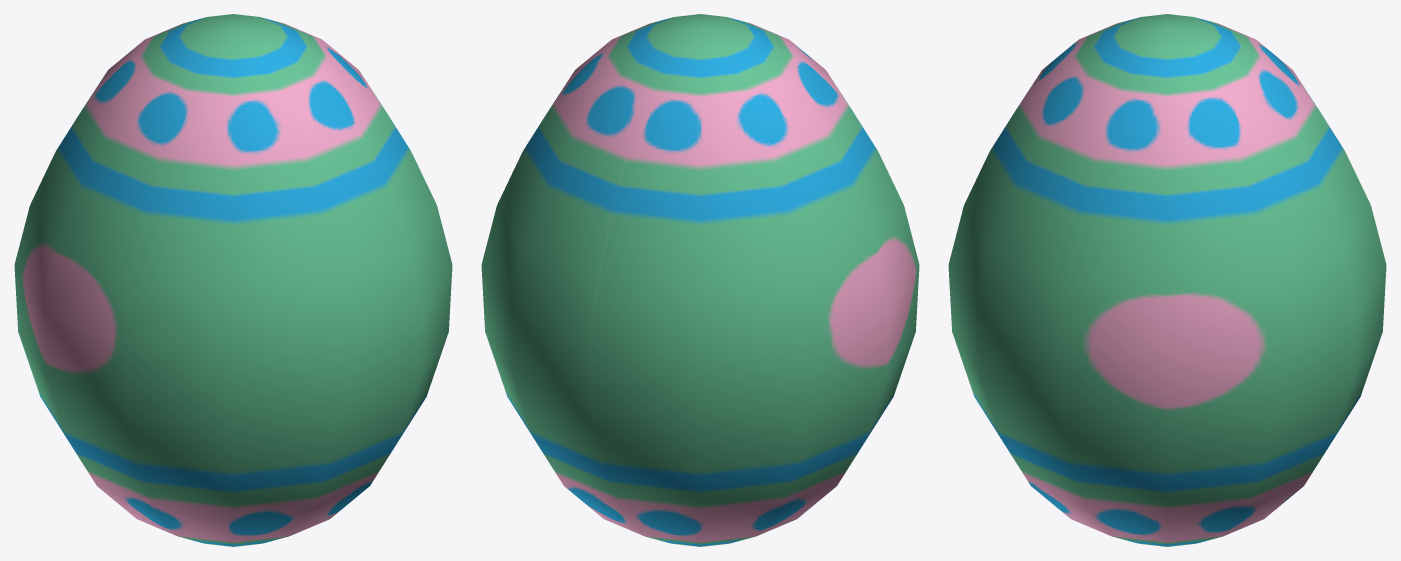
Rendered from MM_EasterEgg_03.fbx.
3 views of the same model, side by side, from view 1: azimuth 30°, elevation 25°; view 2: azimuth 150°, elevation 25°; view 3: azimuth 270°, elevation 25° (orthographic).
Visible parts, largest first — view 1: MM_EasterEgg_03; view 2: MM_EasterEgg_03; view 3: MM_EasterEgg_03.
Boxes of the visible parts, x1,y1,x2,y2 form: MM_EasterEgg_03: (14,14,452,546); MM_EasterEgg_03: (481,14,919,546); MM_EasterEgg_03: (948,14,1386,546).
Size of the model in its own units: 98.52 by 125 by 98.52.
